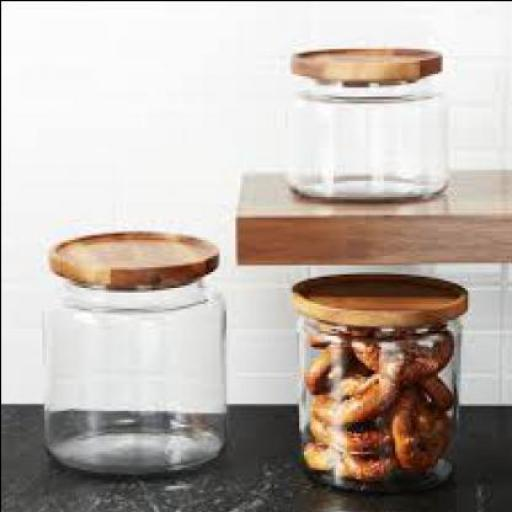biodegradable: (392, 380, 446, 466), (350, 330, 446, 375), (310, 373, 393, 418), (300, 344, 346, 386), (336, 448, 396, 480), (332, 421, 386, 445), (303, 414, 338, 444), (303, 442, 338, 466), (303, 324, 346, 343)
glass: (41, 275, 225, 471), (293, 312, 455, 488), (284, 72, 450, 200)
